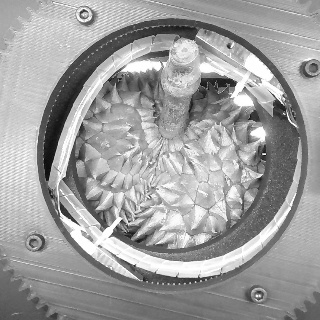base: (154, 119, 190, 142)
end: (170, 38, 199, 64)
